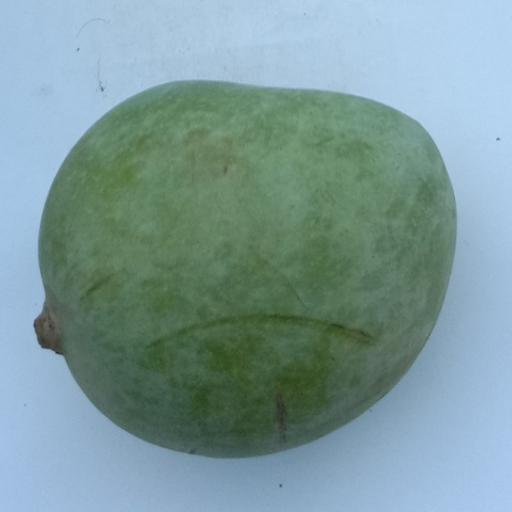mango-unripe: (12, 43, 464, 489)
